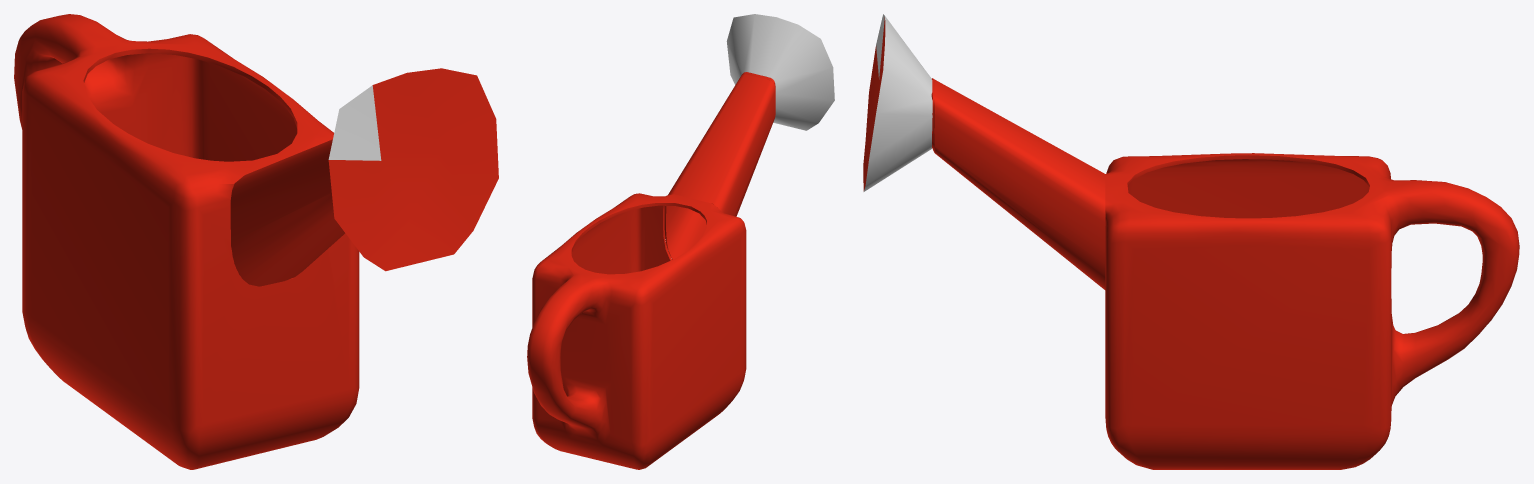
File: WateringCan.fbx
3 renders of one model, left to right at view 1: azimuth 30°, elevation 25°; view 2: azimuth 150°, elevation 25°; view 3: azimuth 270°, elevation 25°, orthographic. The views are drawn at different scales.
Parts seen in each view (by area): view 1: Cube.002; view 2: Cube.002; view 3: Cube.002.
Part boxes in pixels (x1,y1,x2,y2): Cube.002: [14, 14, 498, 469]; Cube.002: [527, 14, 834, 469]; Cube.002: [863, 14, 1519, 469].
Bounding box in the file's own units: 163 × 429 × 609.
